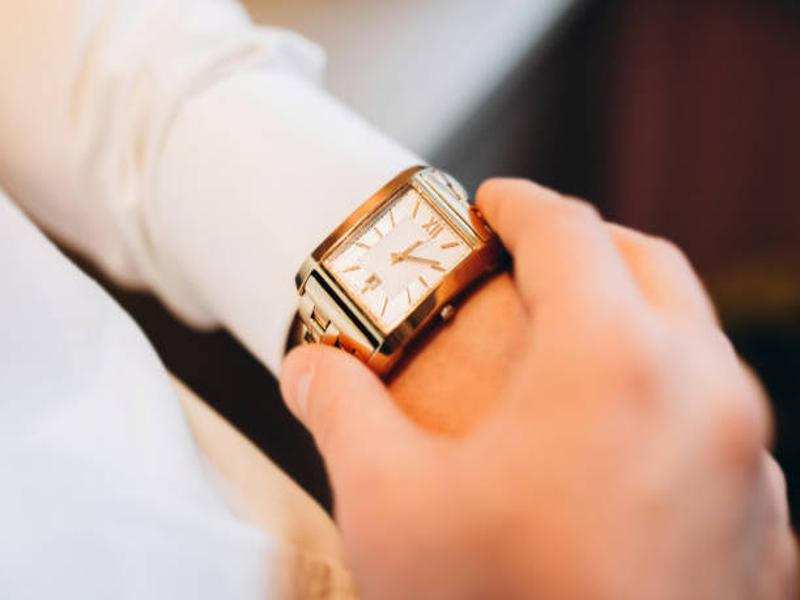watch: (279, 159, 517, 411)
